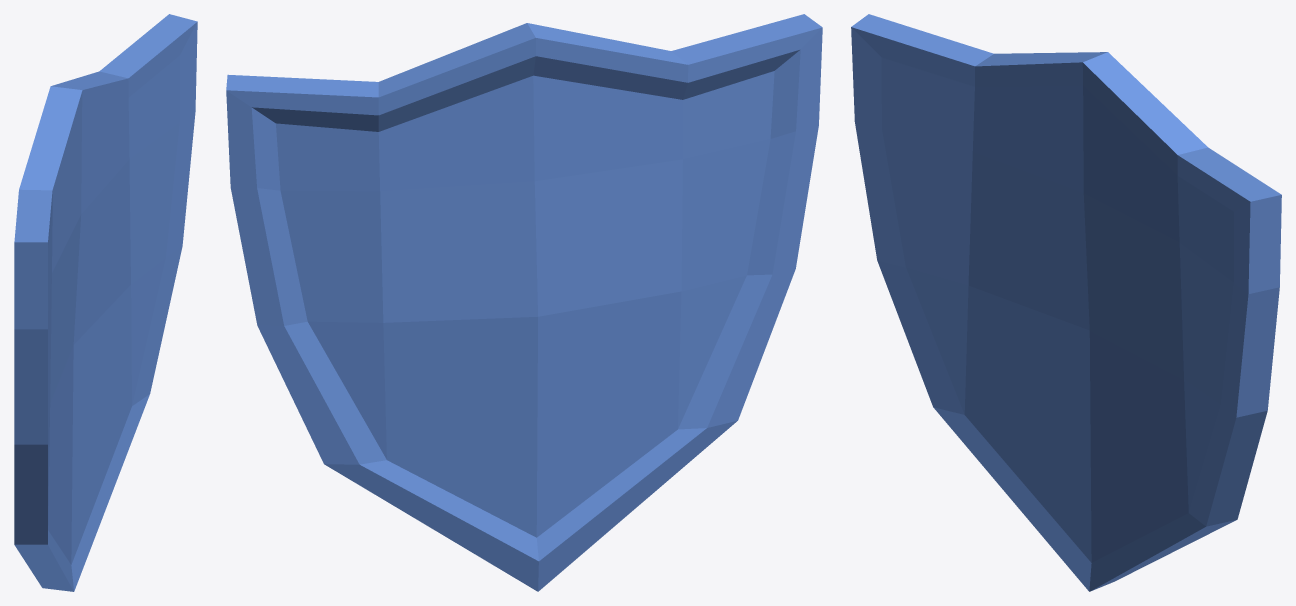
The model's file is escudo_rata 1.fbx.
3 renders of one model, left to right at view 1: azimuth 30°, elevation 25°; view 2: azimuth 150°, elevation 25°; view 3: azimuth 270°, elevation 25°, orthographic. The views are drawn at different scales.
Parts seen in each view (by area): view 1: Cube; view 2: Cube; view 3: Cube.
Part boxes in pixels (left/top/right/bottom): Cube: left=14, top=14, right=197, bottom=591; Cube: left=226, top=14, right=822, bottom=591; Cube: left=851, top=14, right=1281, bottom=591.
Bounding box in the file's own units: 75.66 × 73.35 × 100.
